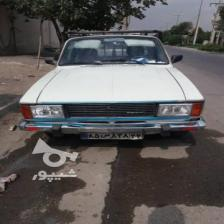plate: (80, 132, 143, 140)
